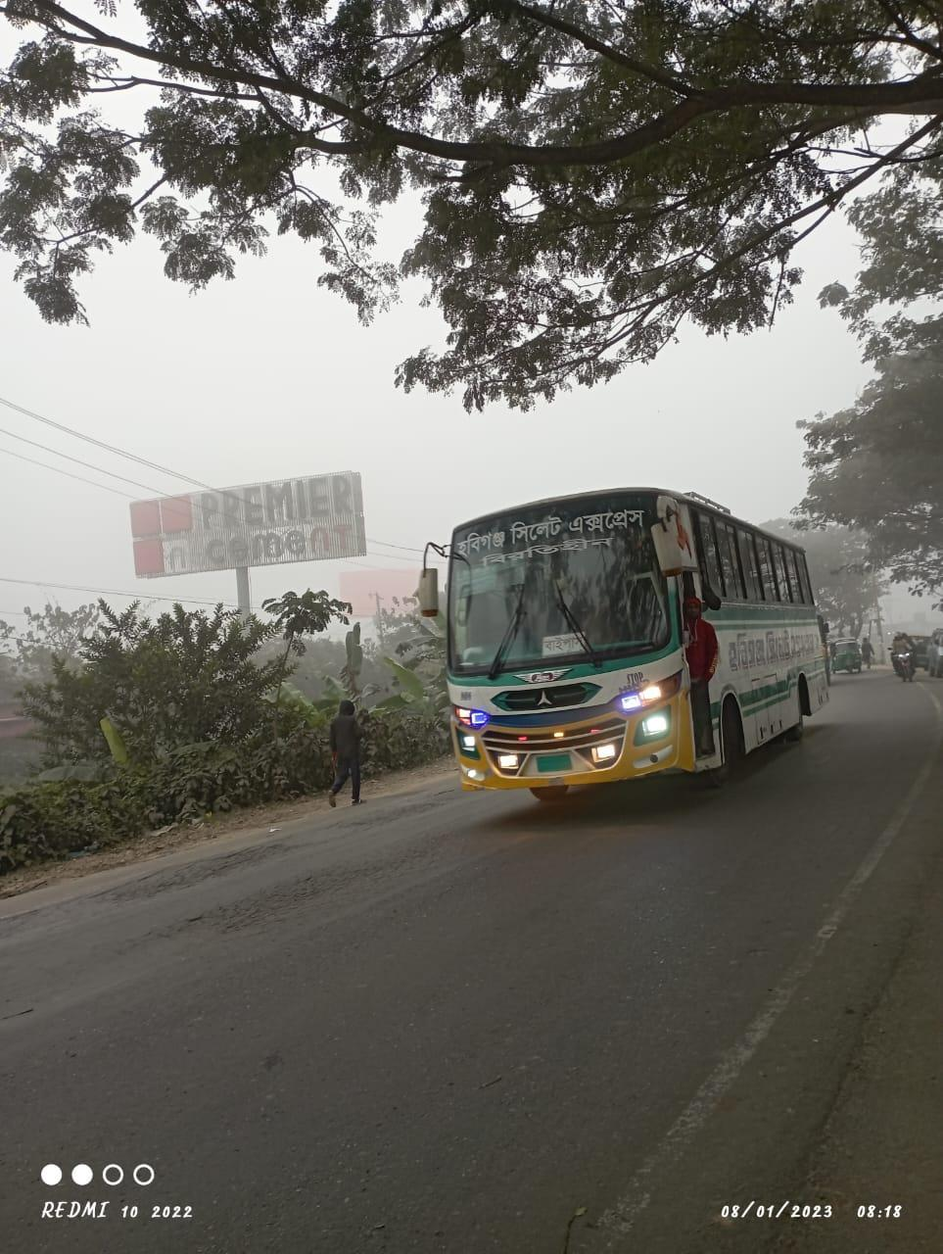Bike: (881, 627, 919, 695)
Bus: (401, 483, 825, 777)
